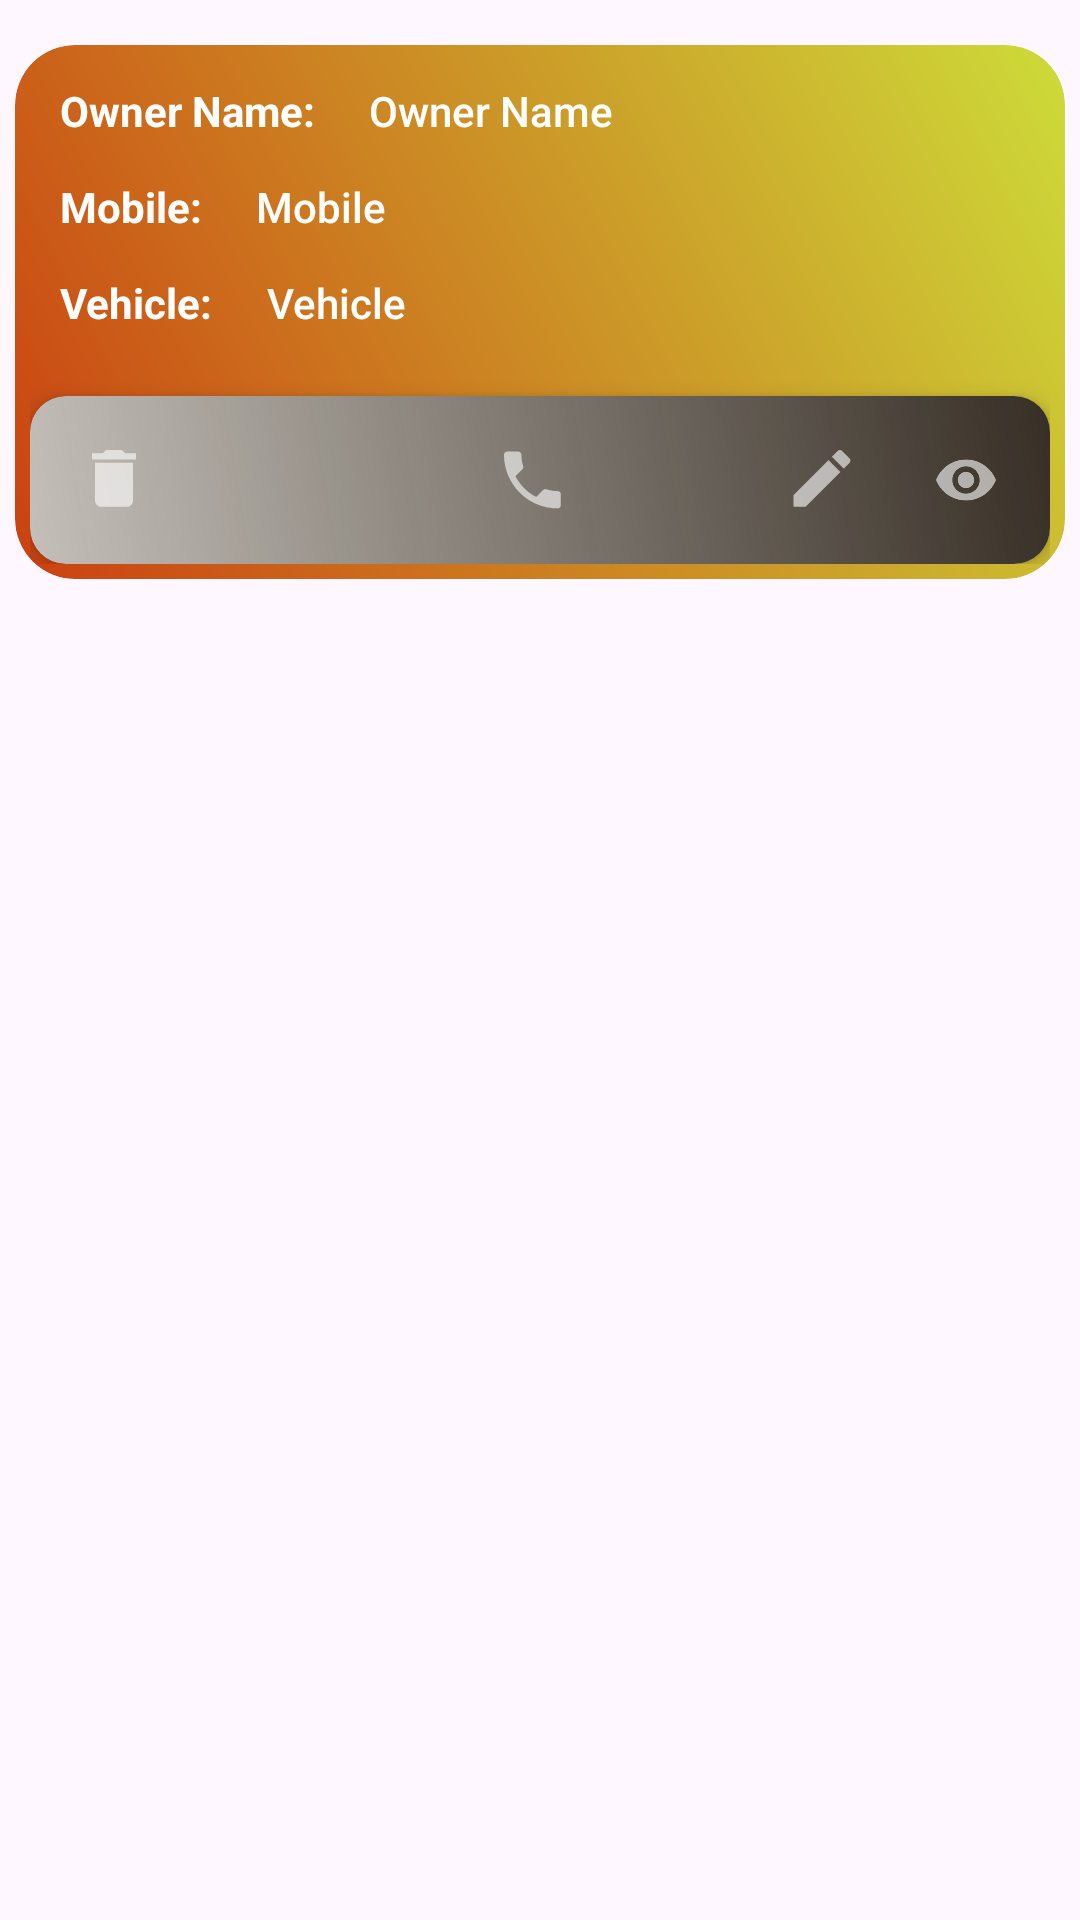

Where icons sit on this 1080*1920 app screen, as (x1, y1, x2, y2):
Edit: (793, 450, 851, 507)
eyeview: (936, 459, 996, 501)
Phone Call: (504, 451, 561, 509)
